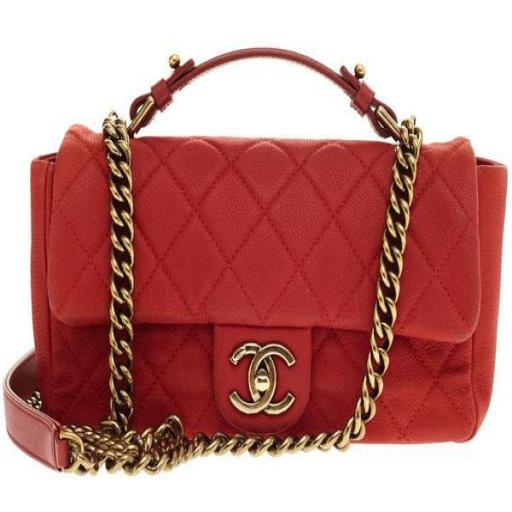other: (30, 98, 508, 467)
